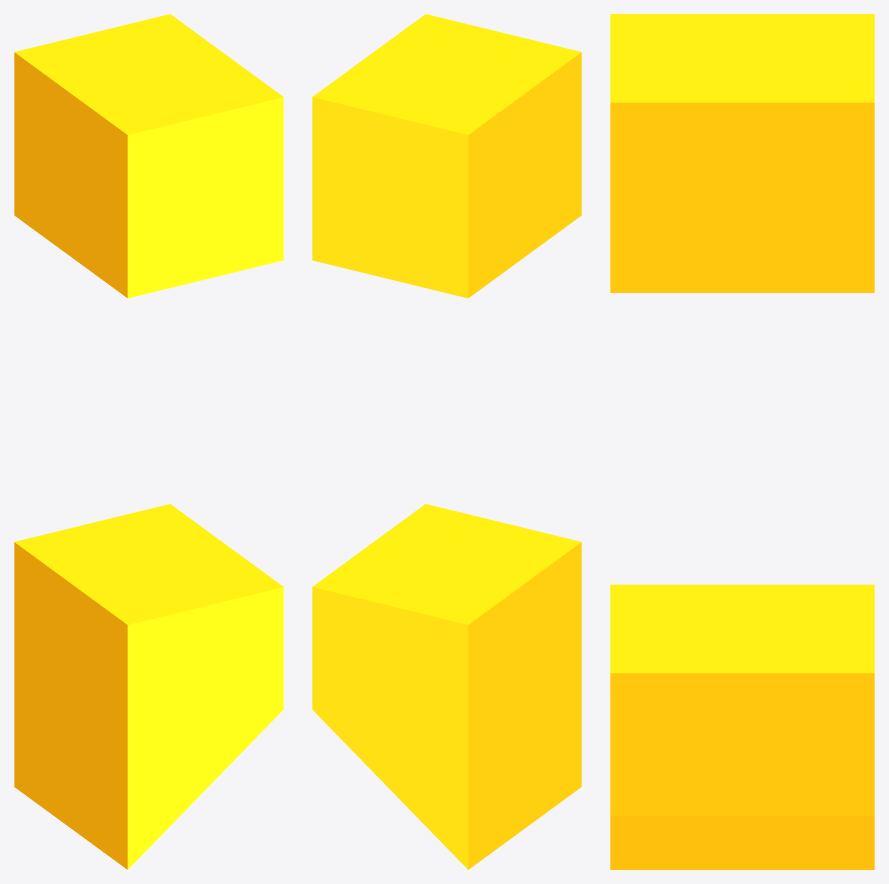
Rendered from 892efd87-bd37-4d5e-b478-d6bdc8e607ea.glb.
3 views of the same model, side by side, from view 1: azimuth 30°, elevation 25°; view 2: azimuth 150°, elevation 25°; view 3: azimuth 270°, elevation 25° (orthographic). The views are drawn at different scales.
Visible parts, largest first — view 1: ;_DeltaBlock_Yellow; view 2: ;_DeltaBlock_Yellow; view 3: ;_DeltaBlock_Yellow.
Part boxes in pixels (box(x1,y1,x2,y2)): ;_DeltaBlock_Yellow: box(14, 14, 283, 869); ;_DeltaBlock_Yellow: box(312, 14, 581, 869); ;_DeltaBlock_Yellow: box(610, 14, 874, 869).
Size of what is drawn, in the model's own units: 0.0357 by 0.1607 by 0.045.
Materials: 2 (2 with a texture image).
